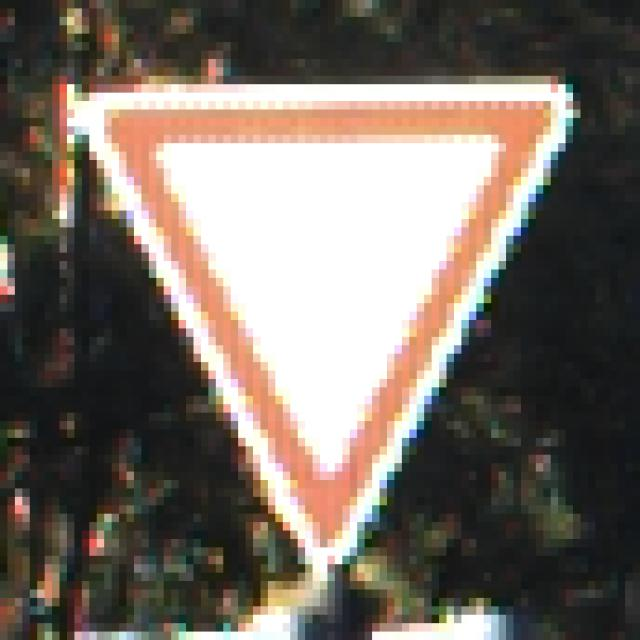Give Way: (53, 52, 589, 591)
